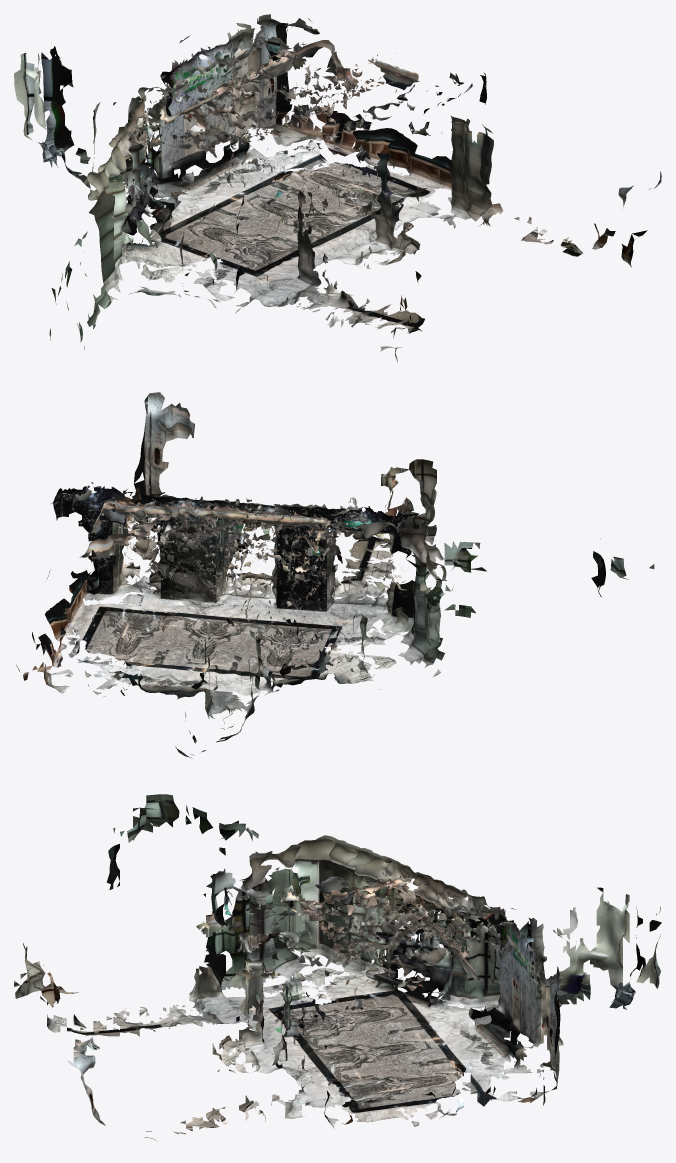
Rendered from 147295-tower5a-tex.glb.
The picture shows the model from 3 angles, top to bottom: view 1: azimuth 30°, elevation 25°; view 2: azimuth 150°, elevation 25°; view 3: azimuth 270°, elevation 25°; orthographic projection. The views are drawn at different scales.
Parts seen in each view (by area): view 1: Node; view 2: Node; view 3: Node.
Boxes of the visible parts, box(x1,y1,x2,y2) form: Node: box(14, 14, 661, 362); Node: box(16, 392, 654, 758); Node: box(14, 794, 661, 1141).
Bounding box in the file's own units: 14.32 × 4.05 × 13.97.
25 materials, 25 textured.
